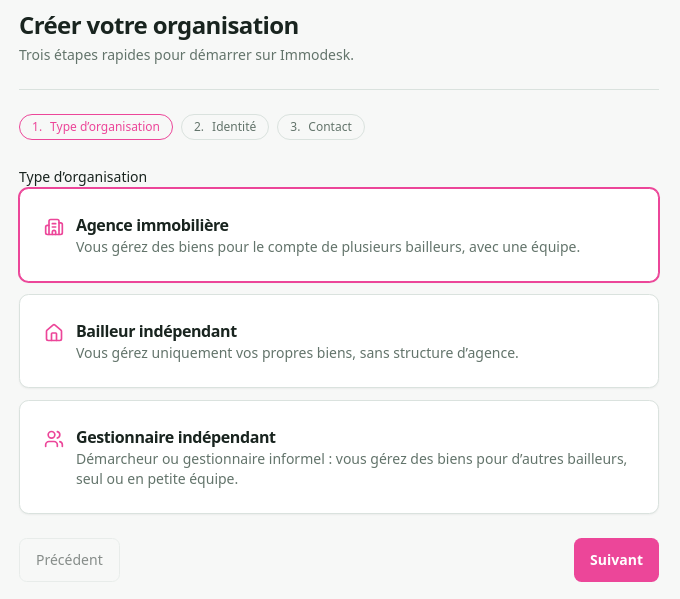
Test case: OnboardingOrganisationPage — libellé du nom › demande « Nom et prénom » pour un bailleur indépendant, sans nom commercial
This screenshot has width=680, height=599.
Click the radio button labelled "Bailleur indépendant": (339, 341) [19,294,659,388]
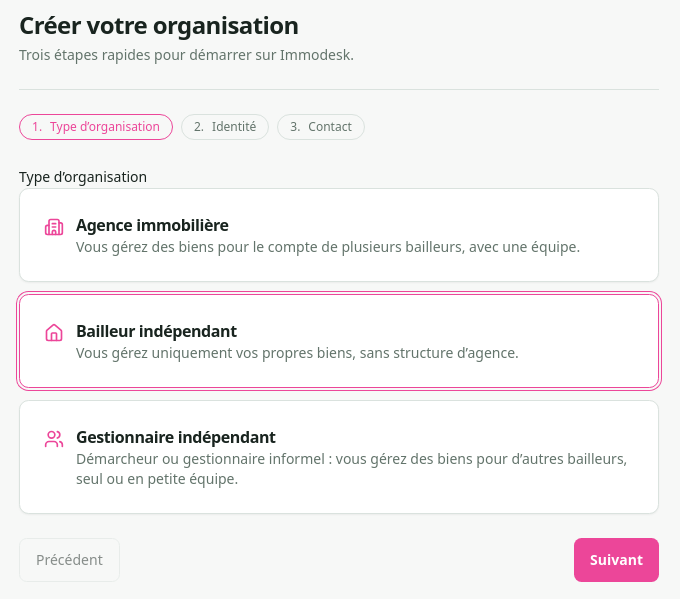
Click the button "Suivant": (617, 560) [574,538,659,582]
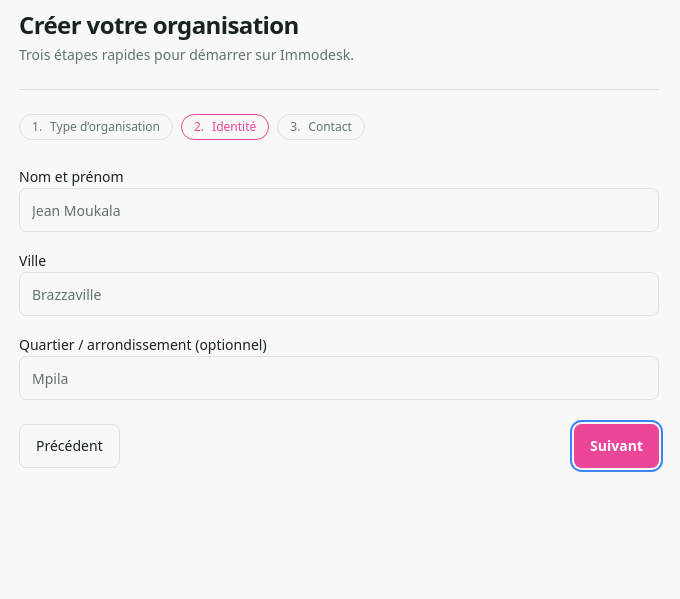
Expected: the field with placeholder "Jean Moukala" is shown, [19,188,659,232]
